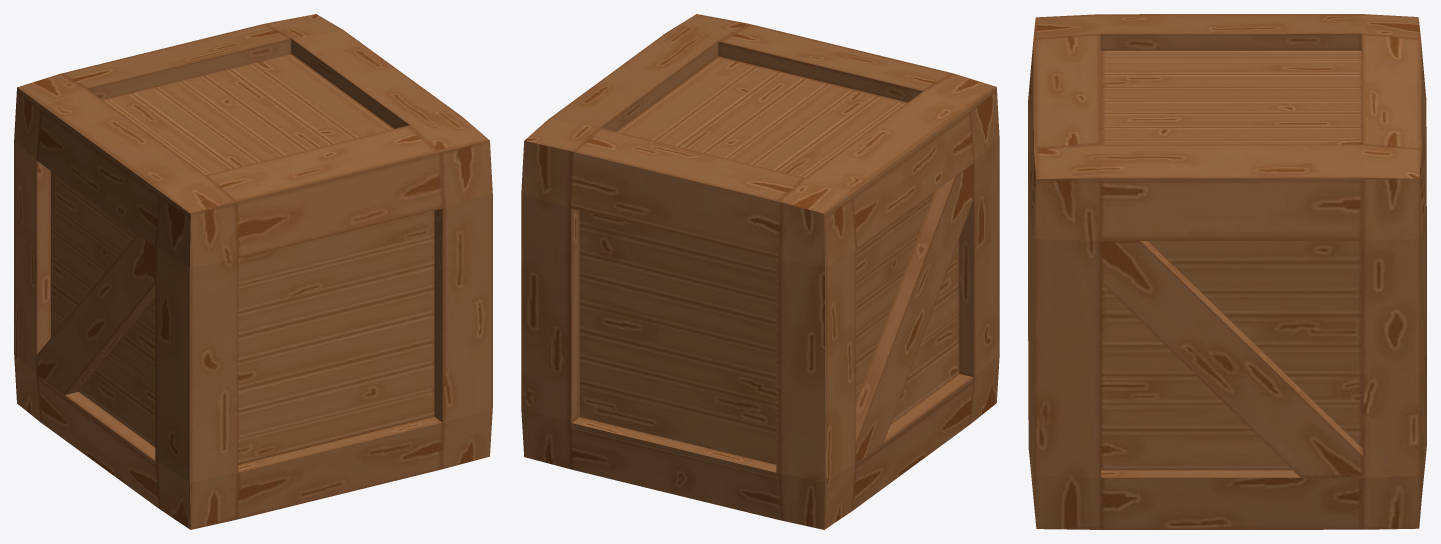
Rendered from Wood_Box.fbx.
3 renders of one model, left to right at view 1: azimuth 30°, elevation 25°; view 2: azimuth 150°, elevation 25°; view 3: azimuth 270°, elevation 25°, orthographic. The views are drawn at different scales.
Visible parts, largest first — view 1: BASE BOX; view 2: BASE BOX; view 3: BASE BOX.
Boxes of the visible parts, <box> form: BASE BOX: <box>14,14,492,529</box>; BASE BOX: <box>521,14,999,529</box>; BASE BOX: <box>1028,14,1426,529</box>.
Size of the model in its own units: 96.63 by 95.41 by 96.62.
